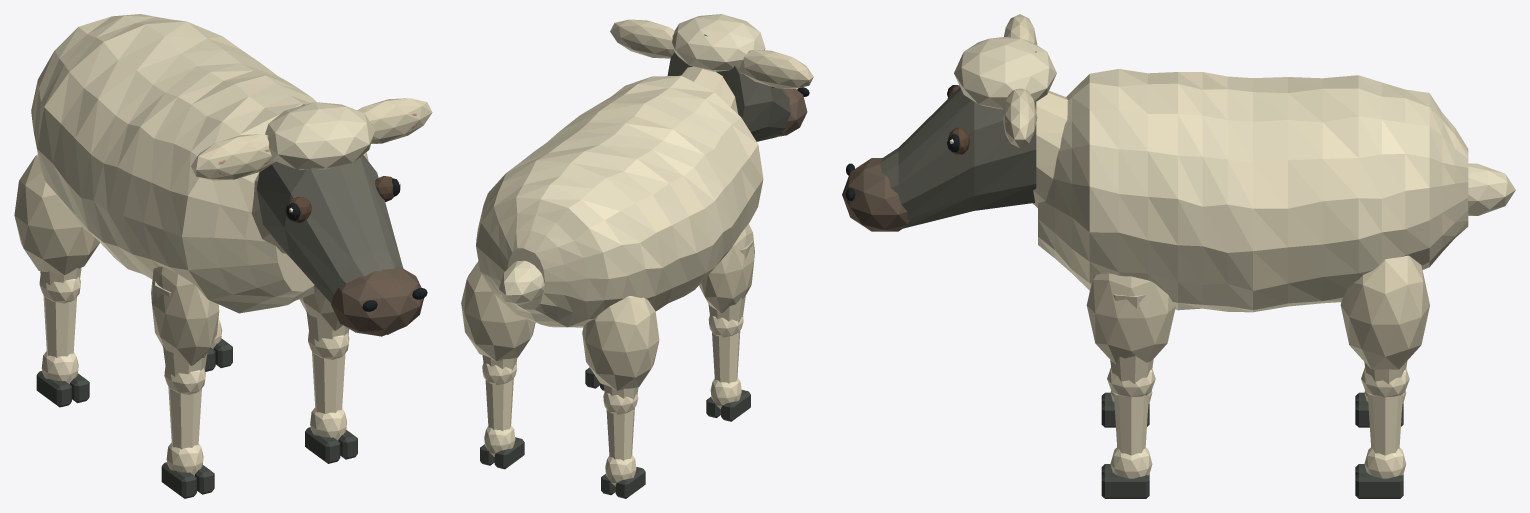
File: sheep-v5.glb
The picture shows the model from 3 angles, left to right: view 1: azimuth 30°, elevation 25°; view 2: azimuth 150°, elevation 25°; view 3: azimuth 270°, elevation 25°; orthographic projection. The views are drawn at different scales.
Visible parts, largest first — view 1: Fleece_mesh, Head_mesh, UpperLeg.002_mesh, UpperLeg_mesh, Ear_mesh, LowerLeg.001_mesh, LowerLeg_mesh, LowerLeg.002_mesh, Ear.001_mesh, UpperLeg.001_mesh, Foot_mesh, Foot.002_mesh (+4 smaller); view 2: Fleece_mesh, Head_mesh, UpperLeg.002_mesh, UpperLeg.003_mesh, UpperLeg_mesh, Ear_mesh, Ear.001_mesh, LowerLeg.003_mesh, LowerLeg.002_mesh, LowerLeg_mesh, Tail_mesh, Foot.003_mesh (+2 smaller); view 3: Fleece_mesh, Head_mesh, UpperLeg.003_mesh, UpperLeg.001_mesh, LowerLeg.001_mesh, LowerLeg.003_mesh, Tail_mesh, Ear.001_mesh, Foot.001_mesh, Foot.003_mesh.
Part boxes in pixels (x1,y1,x2,y2): Fleece_mesh: (31, 14, 368, 313); Head_mesh: (252, 102, 427, 336); UpperLeg.002_mesh: (14, 154, 99, 303); UpperLeg_mesh: (151, 266, 219, 394); Ear_mesh: (191, 134, 275, 180); LowerLeg.001_mesh: (310, 352, 346, 440); LowerLeg_mesh: (166, 387, 203, 475); LowerLeg.002_mesh: (41, 295, 78, 384); Ear.001_mesh: (357, 98, 432, 143); UpperLeg.001_mesh: (299, 289, 349, 359); Foot_mesh: (161, 462, 214, 498); Foot.002_mesh: (36, 371, 89, 407); Fleece_mesh: (476, 75, 763, 327); Head_mesh: (667, 14, 809, 141); UpperLeg.002_mesh: (582, 296, 659, 414); UpperLeg.003_mesh: (461, 261, 535, 385); UpperLeg_mesh: (699, 224, 754, 337); Ear_mesh: (740, 50, 813, 88); Ear.001_mesh: (610, 19, 674, 58); LowerLeg.003_mesh: (484, 378, 515, 456); LowerLeg.002_mesh: (605, 408, 636, 486); LowerLeg_mesh: (710, 331, 741, 409); Tail_mesh: (499, 260, 544, 305); Foot.003_mesh: (480, 437, 524, 469); Fleece_mesh: (1038, 69, 1468, 312); Head_mesh: (842, 37, 1068, 231); UpperLeg.003_mesh: (1340, 255, 1429, 397); UpperLeg.001_mesh: (1086, 273, 1175, 397); LowerLeg.001_mesh: (1110, 394, 1152, 478); LowerLeg.003_mesh: (1364, 394, 1406, 478); Tail_mesh: (1468, 163, 1515, 215); Ear.001_mesh: (1002, 88, 1037, 147); Foot.001_mesh: (1101, 464, 1149, 498); Foot.003_mesh: (1355, 464, 1403, 498).
Bounding box in the file's own units: 0.8063 × 1.32 × 1.96.
